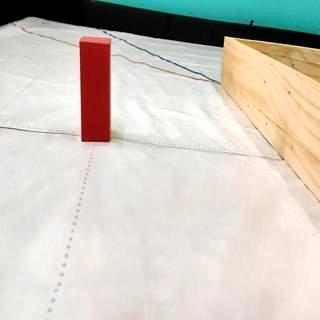redbox: (78, 34, 111, 144)
